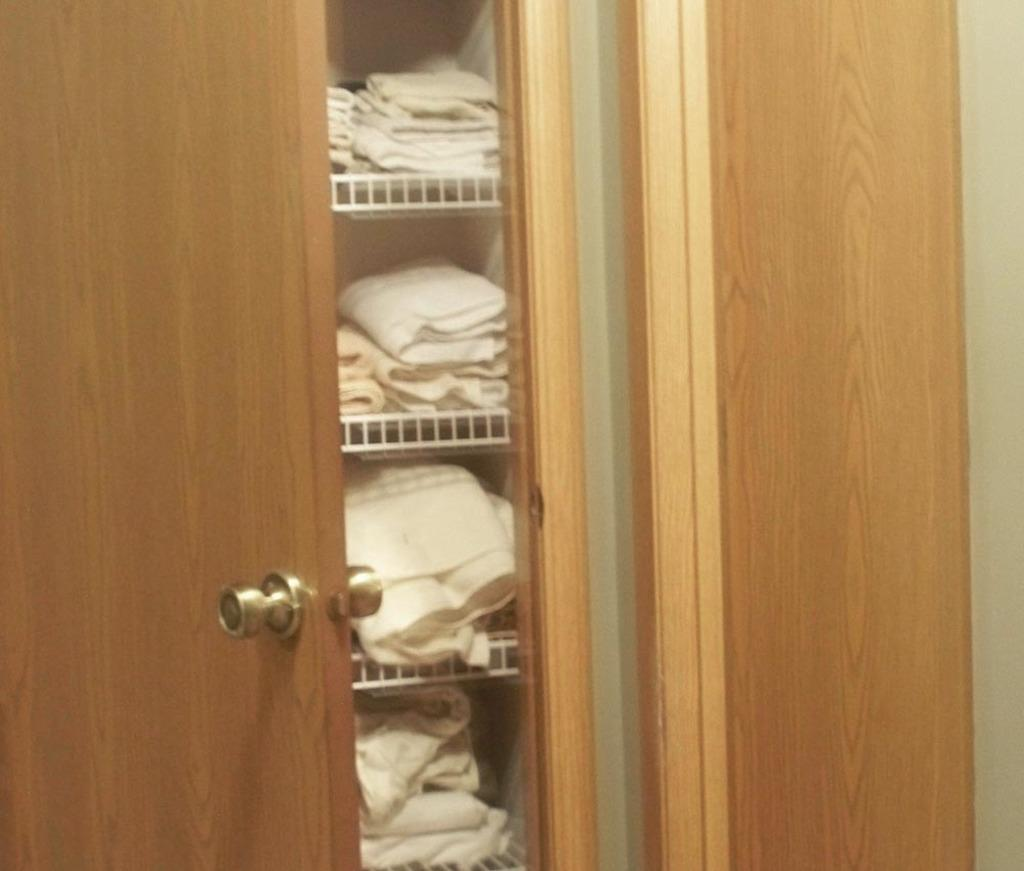handle: (207, 554, 319, 656), (345, 552, 385, 626)
